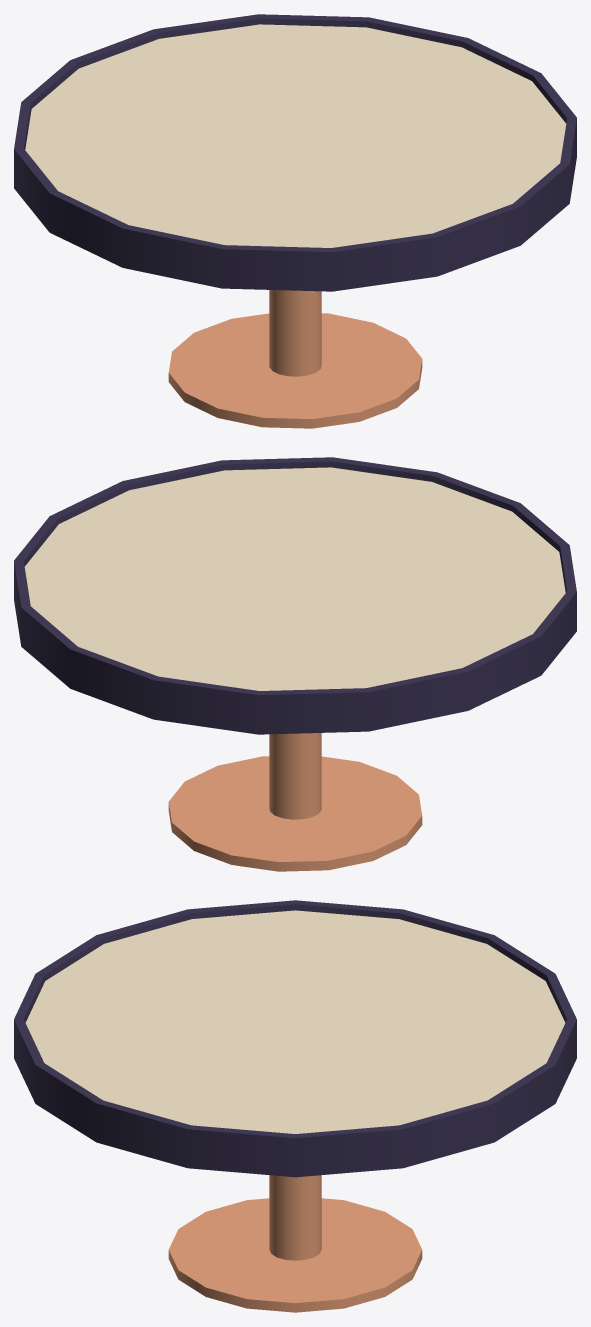
Rendered from classic_table.fbx.
3 views of the same model, one above another, from view 1: azimuth 30°, elevation 25°; view 2: azimuth 150°, elevation 25°; view 3: azimuth 270°, elevation 25° (orthographic).
Visible parts, largest first — view 1: ClassicTable; view 2: ClassicTable; view 3: ClassicTable.
Part boxes in pixels (<box>): ClassicTable: <box>14,14,576,428</box>; ClassicTable: <box>14,457,576,871</box>; ClassicTable: <box>14,900,576,1312</box>.
Size of the model in its own units: 511 by 240 by 511.
